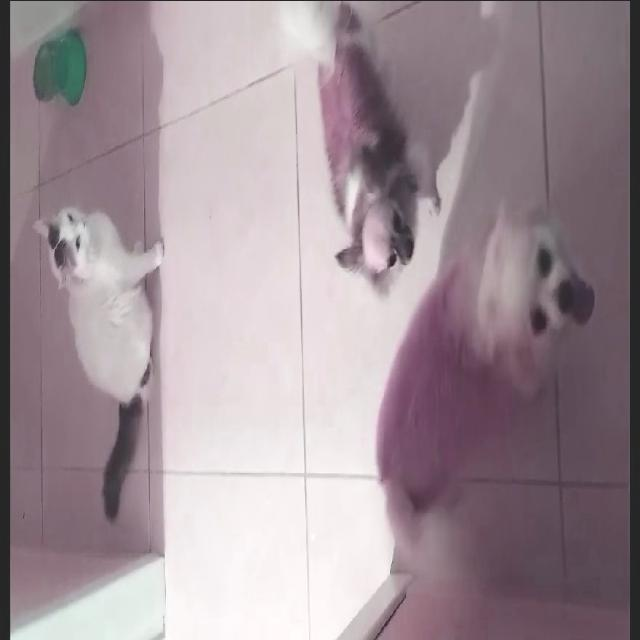Pedrita: (279, 2, 429, 304)
Theo: (332, 186, 602, 568)
